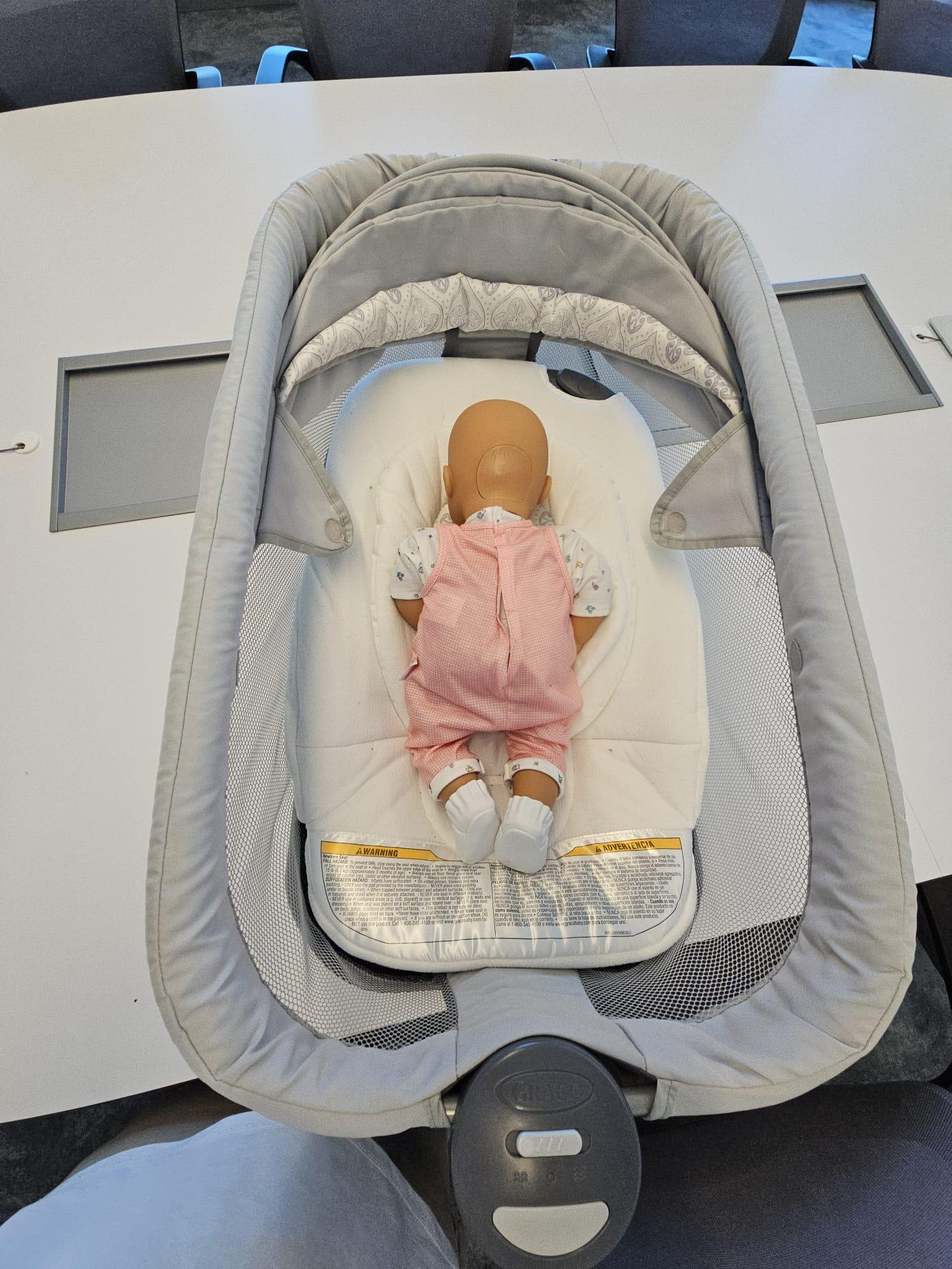baby: (381, 378, 621, 880)
